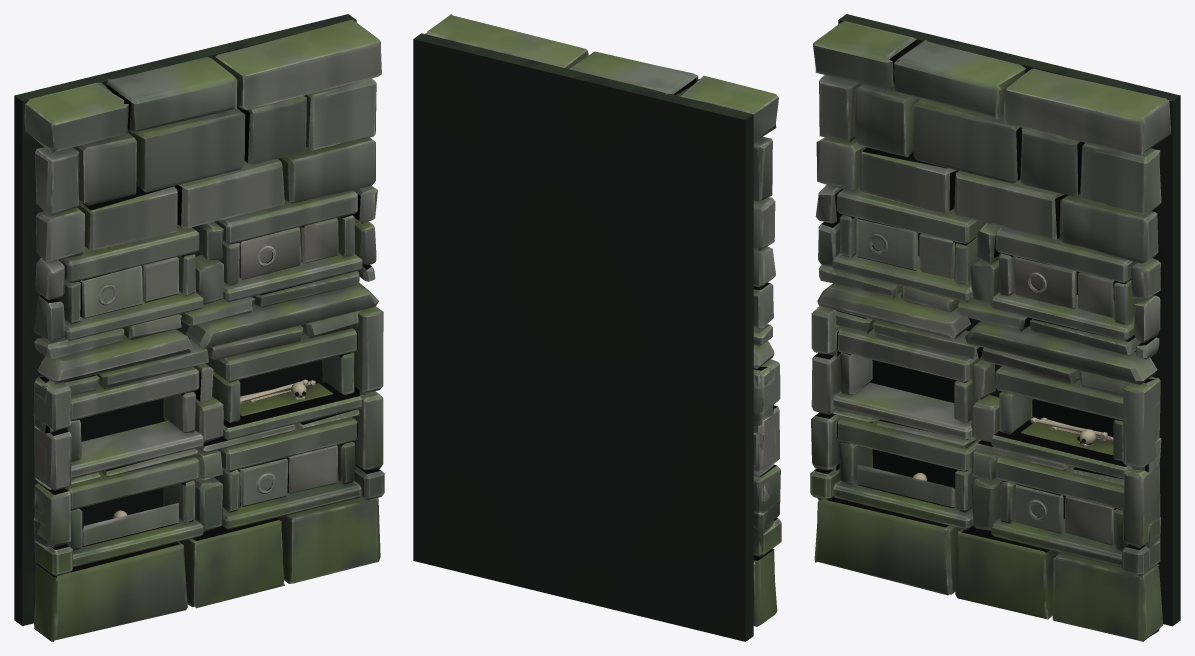
The model's file is crypt_wall_niches.glb.
3 views of the same model, side by side, from view 1: azimuth 30°, elevation 25°; view 2: azimuth 150°, elevation 25°; view 3: azimuth 330°, elevation 25° (orthographic).
Parts seen in each view (by area): view 1: crypt_wall_niches; view 2: crypt_wall_niches; view 3: crypt_wall_niches.
Part boxes in pixels (x1,y1,x2,y2): crypt_wall_niches: (14,14,384,641); crypt_wall_niches: (413,14,781,641); crypt_wall_niches: (810,14,1180,641).
Bounding box in the file's own units: 4 × 6.03 × 0.81.
Materials: 1 (1 with a texture image).
